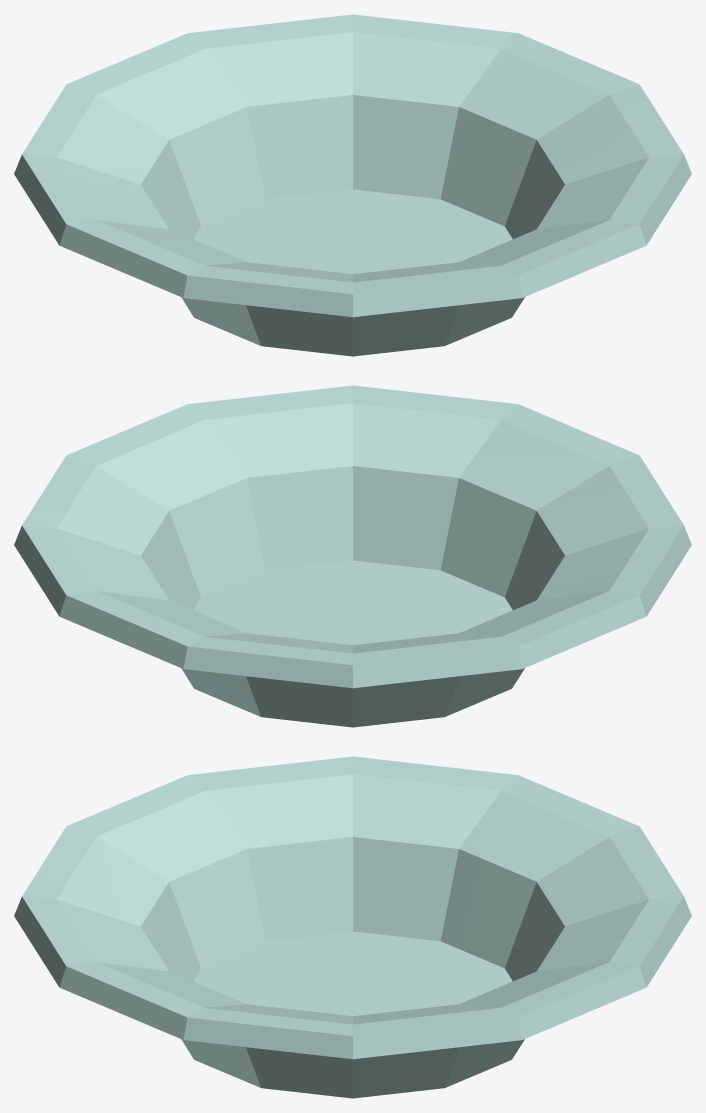
File: deepplate.fbx
3 renders of one model, top to bottom at view 1: azimuth 30°, elevation 25°; view 2: azimuth 150°, elevation 25°; view 3: azimuth 270°, elevation 25°, orthographic.
Parts seen in each view (by area): view 1: Cylinder.009; view 2: Cylinder.009; view 3: Cylinder.009.
Boxes of the visible parts, left/top/right/bottom form: Cylinder.009: left=14, top=14, right=691, bottom=356; Cylinder.009: left=14, top=385, right=691, bottom=727; Cylinder.009: left=14, top=756, right=691, bottom=1098.
Size of the model in its own units: 76.09 by 15.44 by 76.09.
